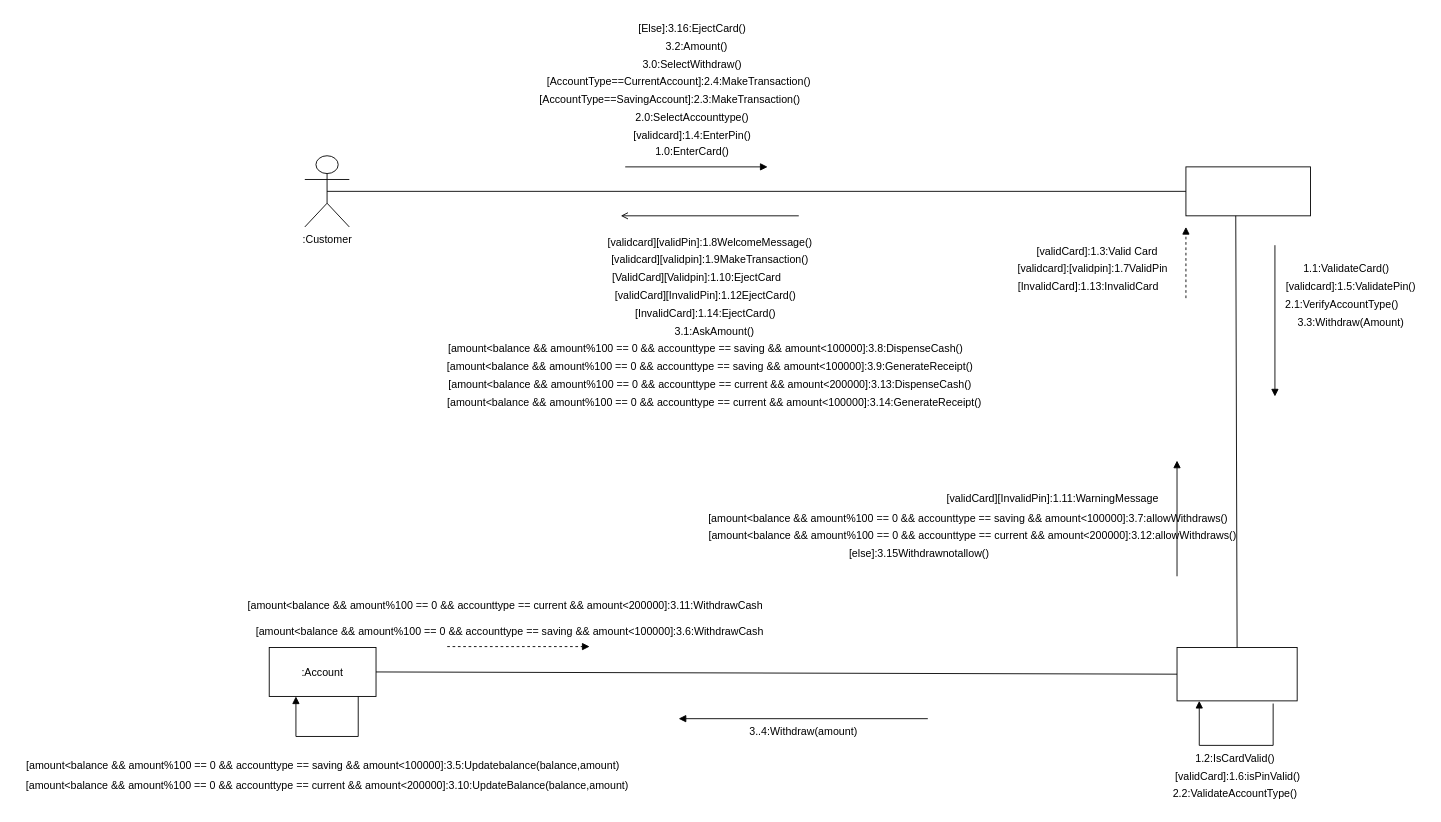
Image size: 1441x822. Some labels were removed from this diagram. The centre of each missing label's shape, as x and y in pixels:
:ATM: the point at 1248,191
:Bank: the point at 1236,674
